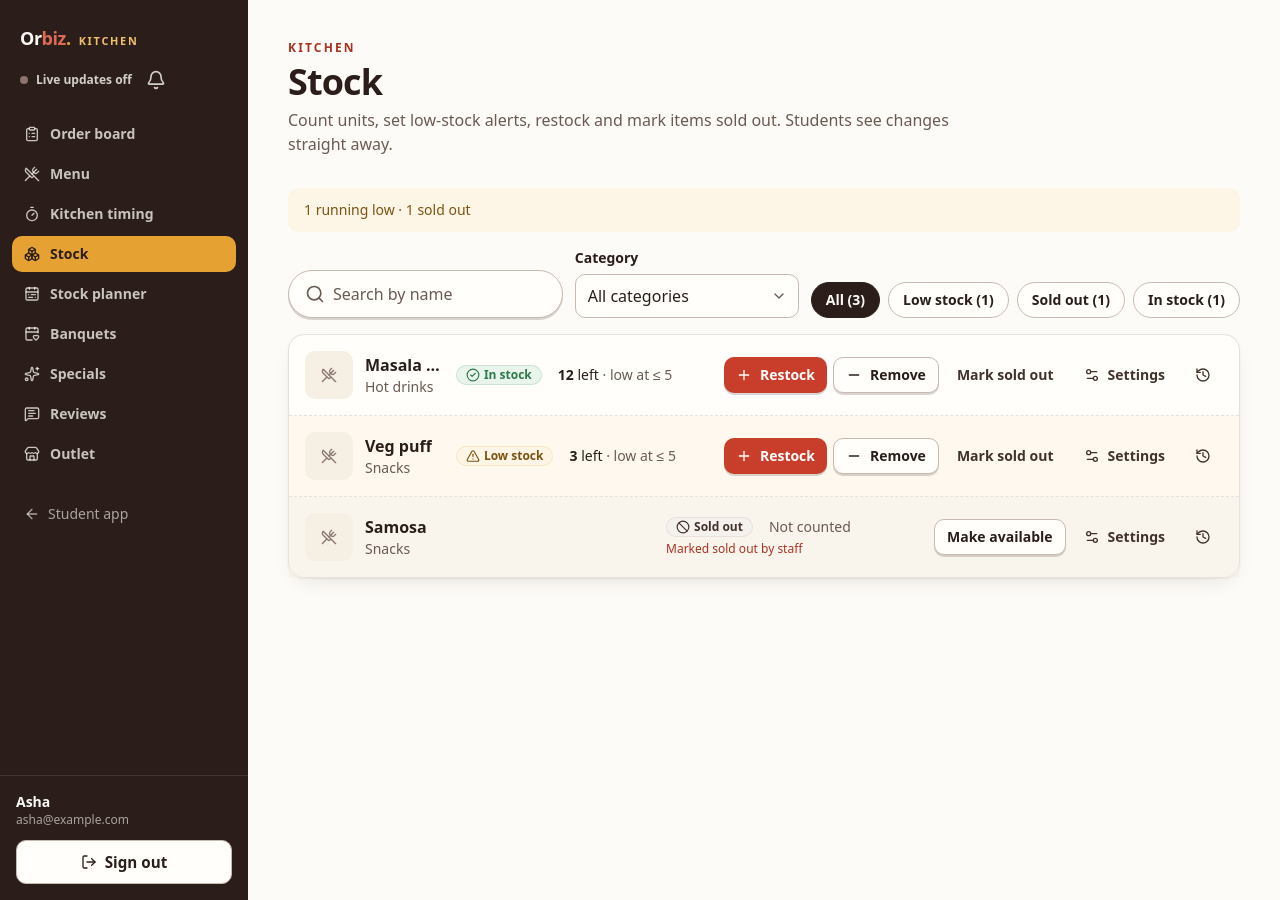
stock management (manager) › sets a stock count against the figure the manager saw
Click the button with aria-label "Stock settings for Masala chai". click: (1124, 375)
box: [1072,357,1177,393]
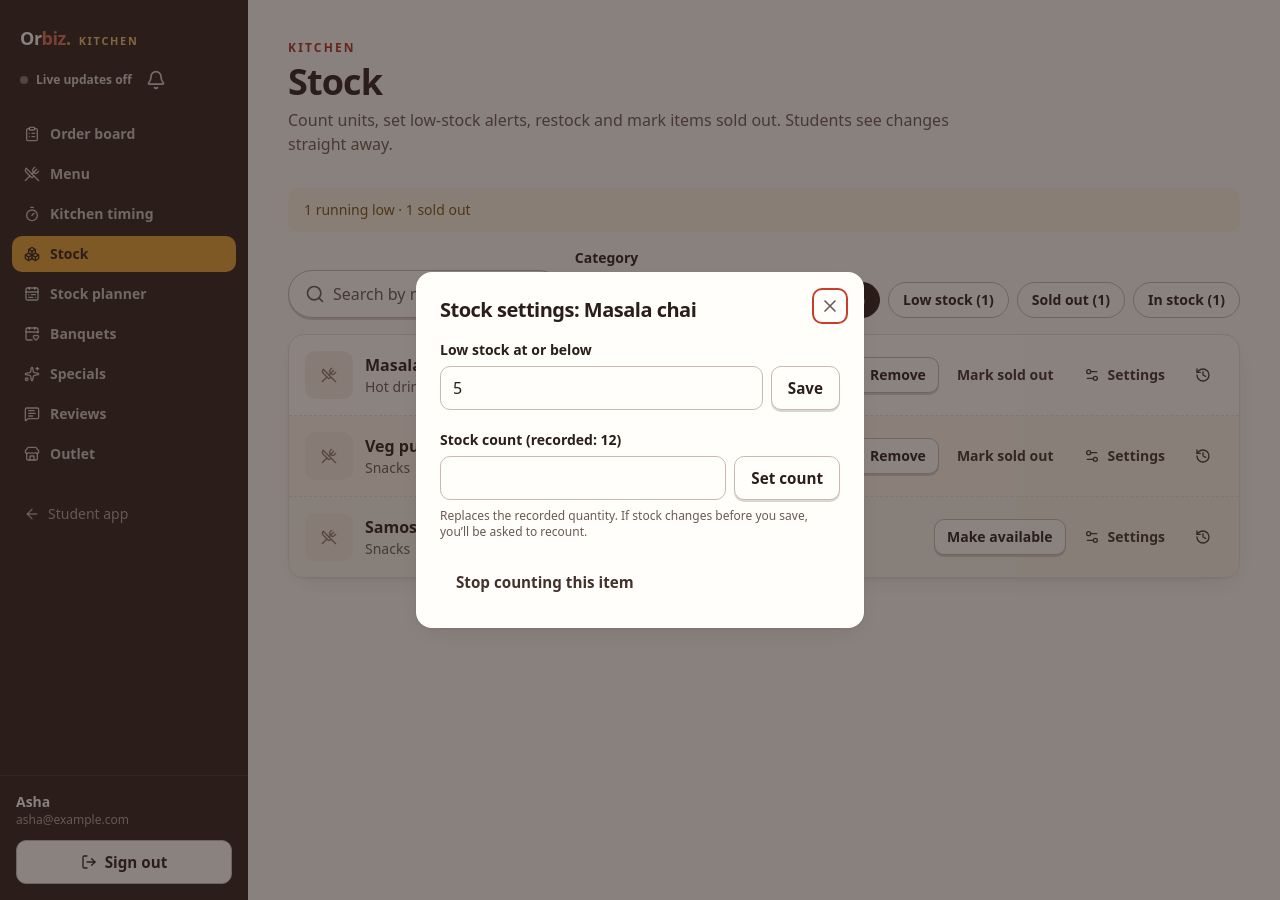
Type "10" into the field labelled "Stock count (recorded: 12)". click: (583, 478)
box: [453,457,713,499]
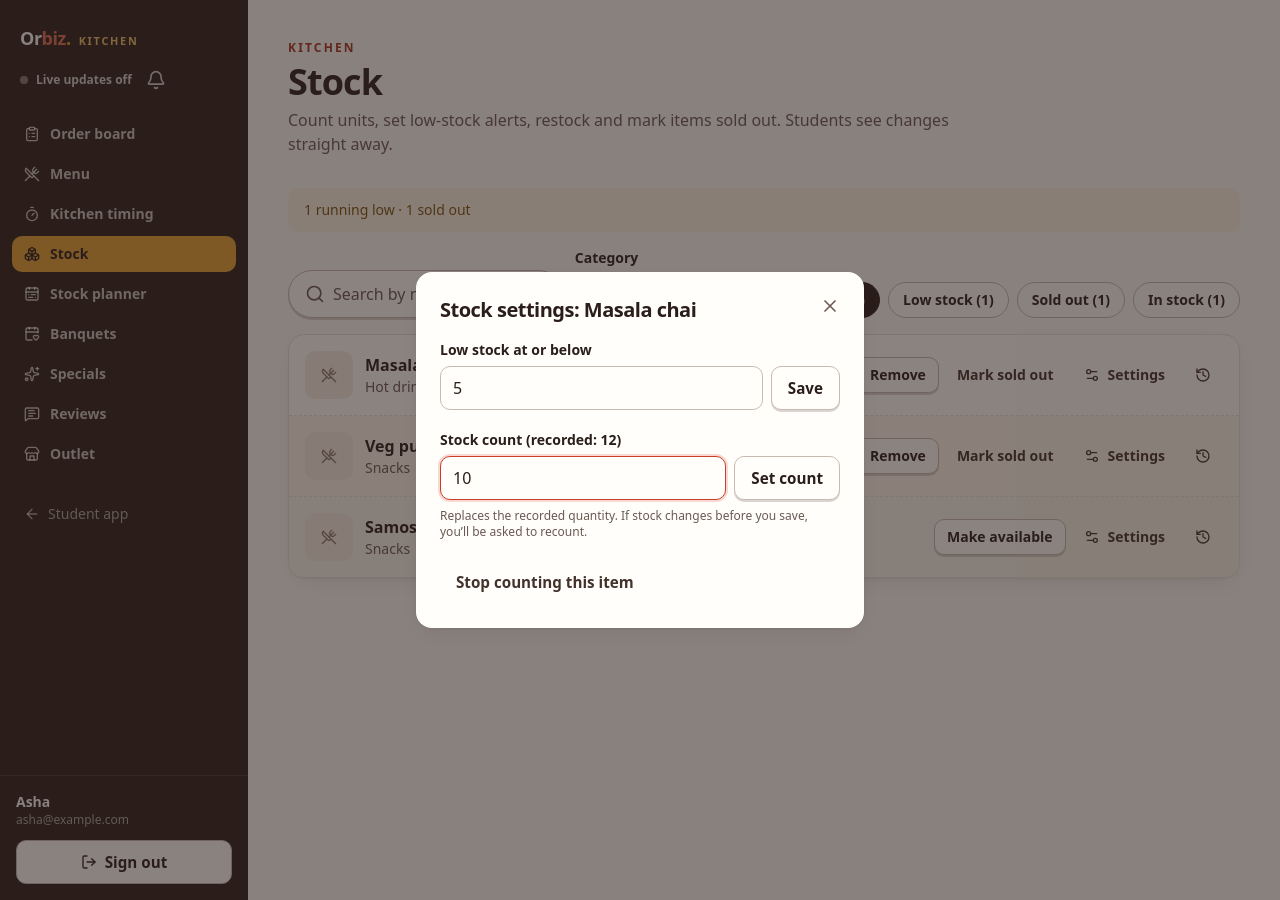
Click the button "Set count". click: (787, 478)
box: [734,456,840,500]
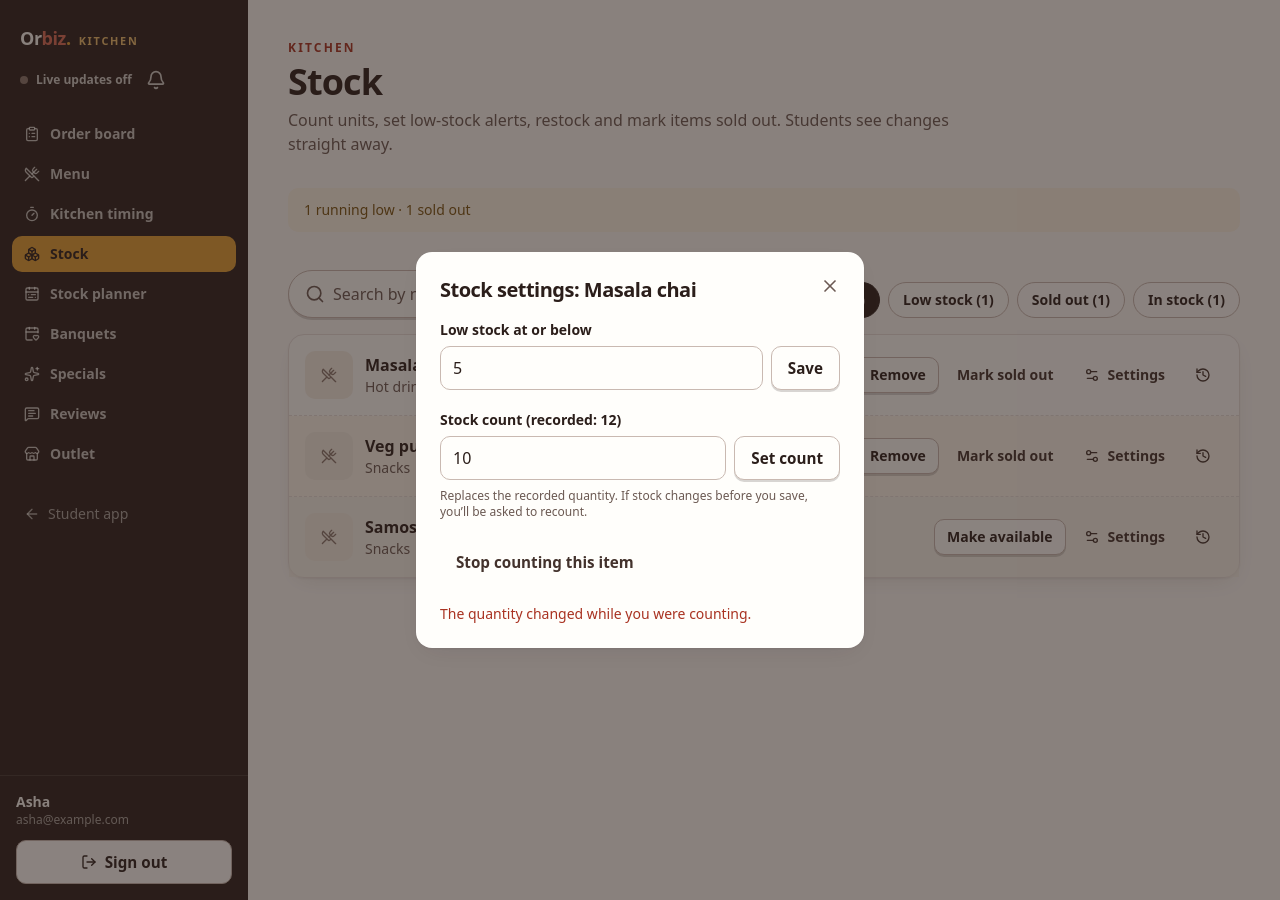
Expected: the text "The quantity changed while you were counting." is shown, [440,604,751,623]
